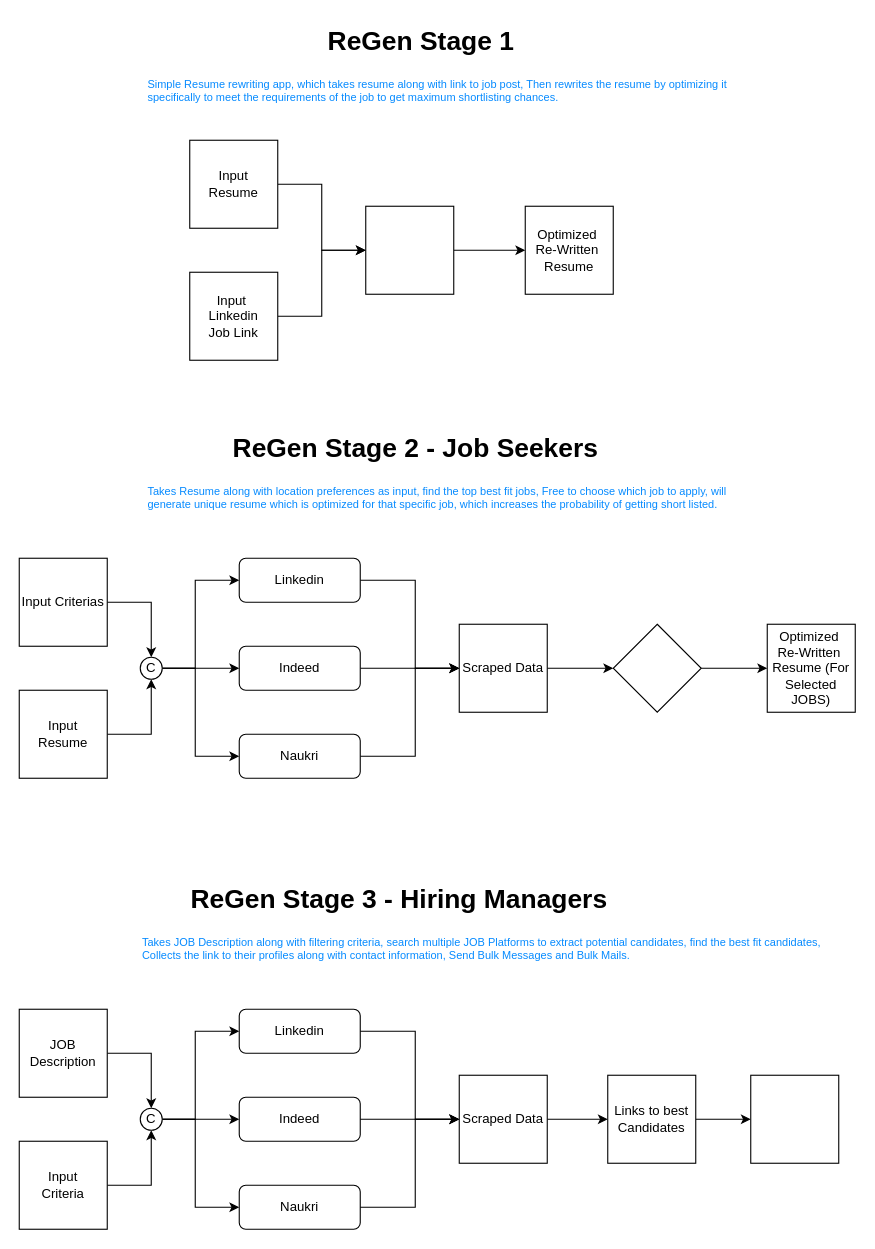
This 875x1249 diagram has some shape labels left out. The centre of each missing label's shape, as x and y in pixels:
"Bulk Message" belongs at point 794,1118.
"ReGen AI" belongs at point 409,249.
"Top Best JOBS" belongs at point 656,667.
